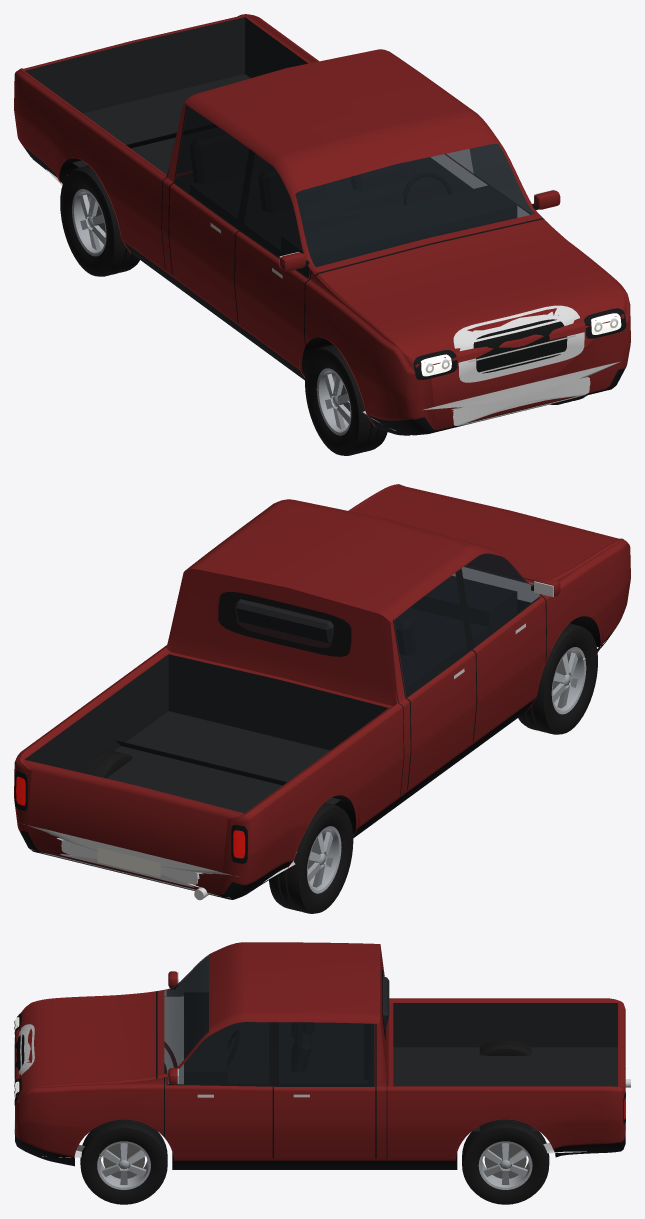
Rendered from car_pickup.glb.
The picture shows the model from 3 angles, top to bottom: view 1: azimuth 30°, elevation 25°; view 2: azimuth 150°, elevation 25°; view 3: azimuth 270°, elevation 25°; orthographic projection. The views are drawn at different scales.
Parts seen in each view (by area): view 1: body, glass, interior, wheel_fr, wheel_rr, lights_head; view 2: body, glass, interior, wheel_rr, wheel_fr, lights_tail, wheel_rl; view 3: body, glass, interior, wheel_fl, wheel_rl, wheel_rr.
Boxes of the visible parts, x1,y1,x2,y2 form: body: (14, 14, 630, 435); glass: (175, 106, 534, 277); interior: (190, 132, 516, 276); wheel_fr: (305, 344, 387, 455); wheel_rr: (60, 165, 139, 276); lights_head: (413, 308, 626, 379); body: (14, 484, 630, 900); glass: (236, 553, 539, 696); interior: (235, 576, 516, 695); wheel_rr: (269, 802, 353, 913); wheel_fr: (518, 623, 597, 734); lights_tail: (14, 771, 247, 863); wheel_rl: (81, 749, 132, 778); body: (14, 942, 630, 1169); glass: (164, 954, 385, 1085); interior: (184, 976, 389, 1085); wheel_fl: (80, 1119, 167, 1204); wheel_rl: (462, 1119, 549, 1204); wheel_rr: (479, 1039, 531, 1055).
Size of what is drawn, in the model's own units: 2.29 by 1.88 by 5.66.
